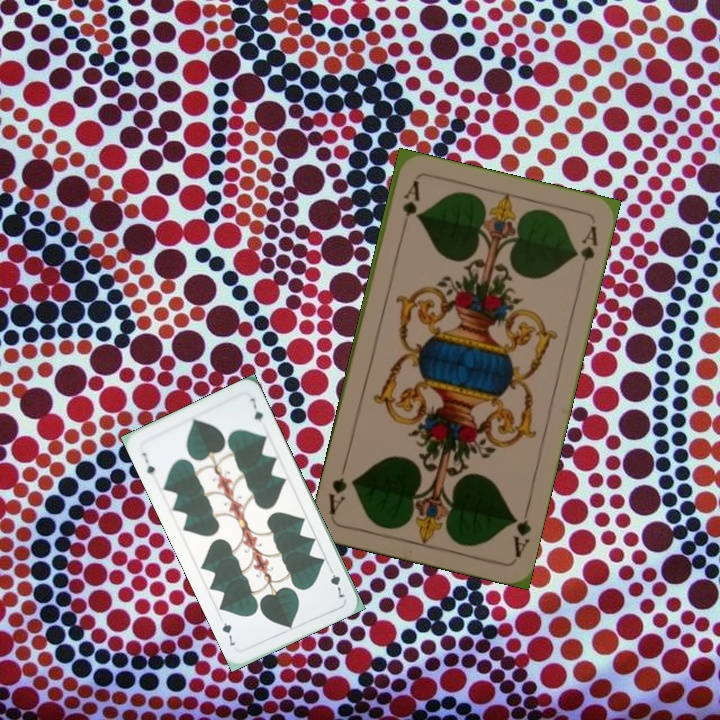G7: (325, 563, 348, 600), (138, 448, 158, 478)
GA: (508, 502, 534, 561), (397, 177, 422, 235)
